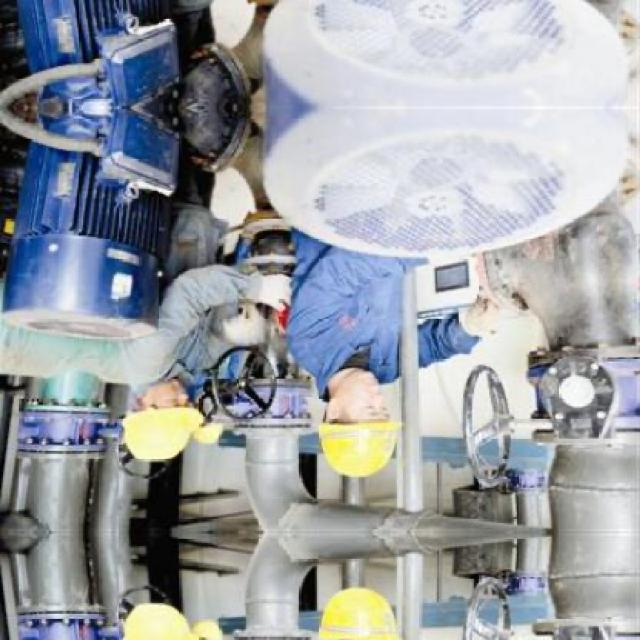con casco: (101, 369, 266, 472), (346, 358, 436, 501)
